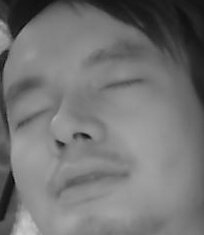blink: (99, 74, 141, 99), (16, 106, 50, 128)
mouth: (49, 155, 129, 204)
